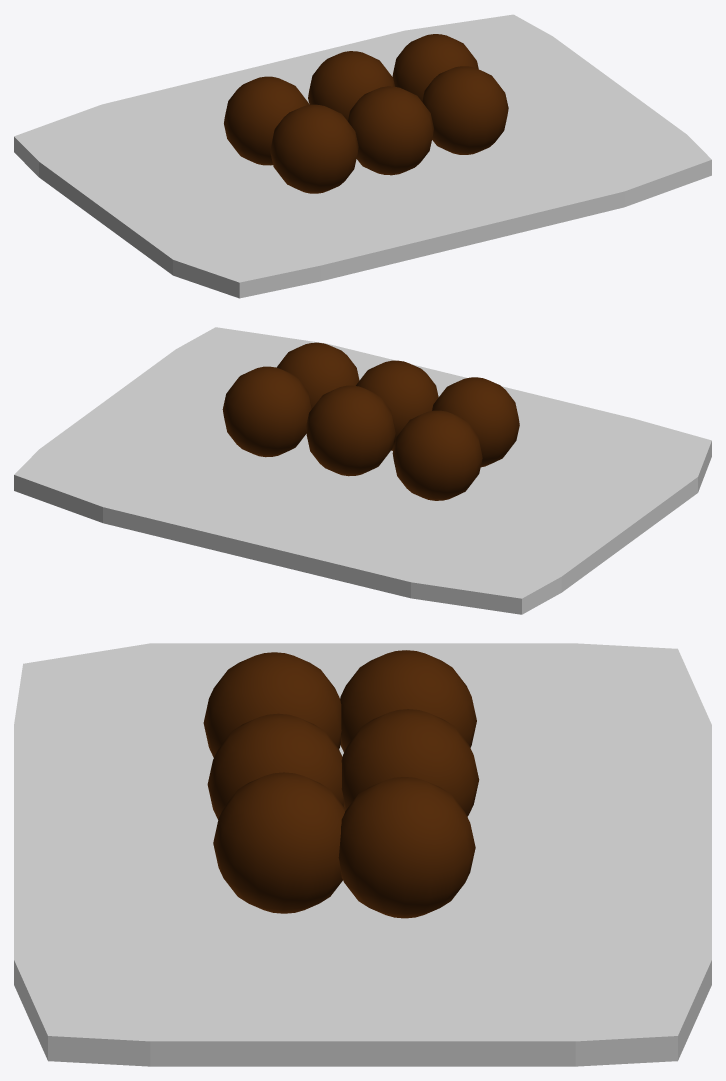
Rendered from meatballs.dae.
3 views of the same model, one above another, from view 1: azimuth 30°, elevation 25°; view 2: azimuth 150°, elevation 25°; view 3: azimuth 270°, elevation 25° (orthographic). The views are drawn at different scales.
Parts seen in each view (by area): view 1: ルートパート, 球 (×6); view 2: ルートパート, 球 (×6); view 3: ルートパート, 球 (×6).
Part boxes in pixels (left/top/right/bottom): ルートパート: left=14, top=14, right=711, bottom=298; 球 (×6): left=224, top=34, right=508, bottom=193; ルートパート: left=14, top=327, right=711, bottom=614; 球 (×6): left=222, top=342, right=519, bottom=500; ルートパート: left=14, top=643, right=711, bottom=1066; 球 (×6): left=203, top=650, right=479, bottom=918.
Bounding box in the file's own units: 339 × 61.38 × 251.
